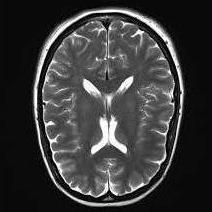Normal_Brain: (1, 12, 202, 205)
